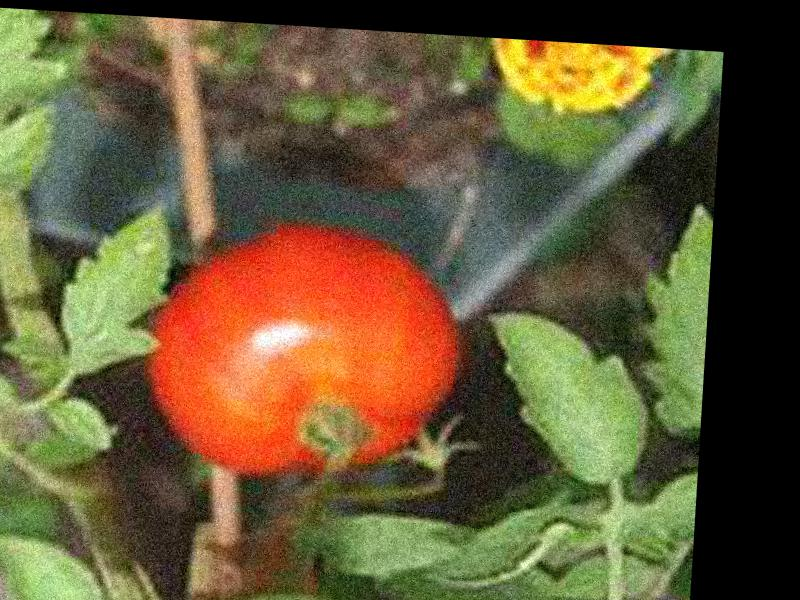Tomato: (137, 219, 470, 489)
